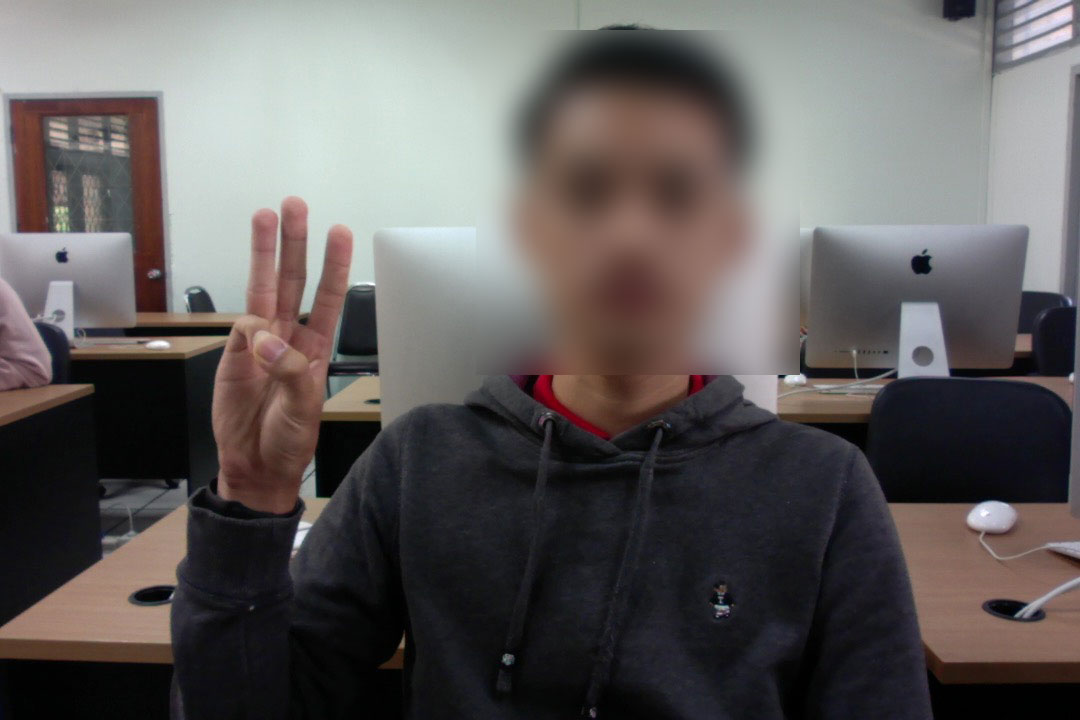wor: (189, 186, 359, 500)
